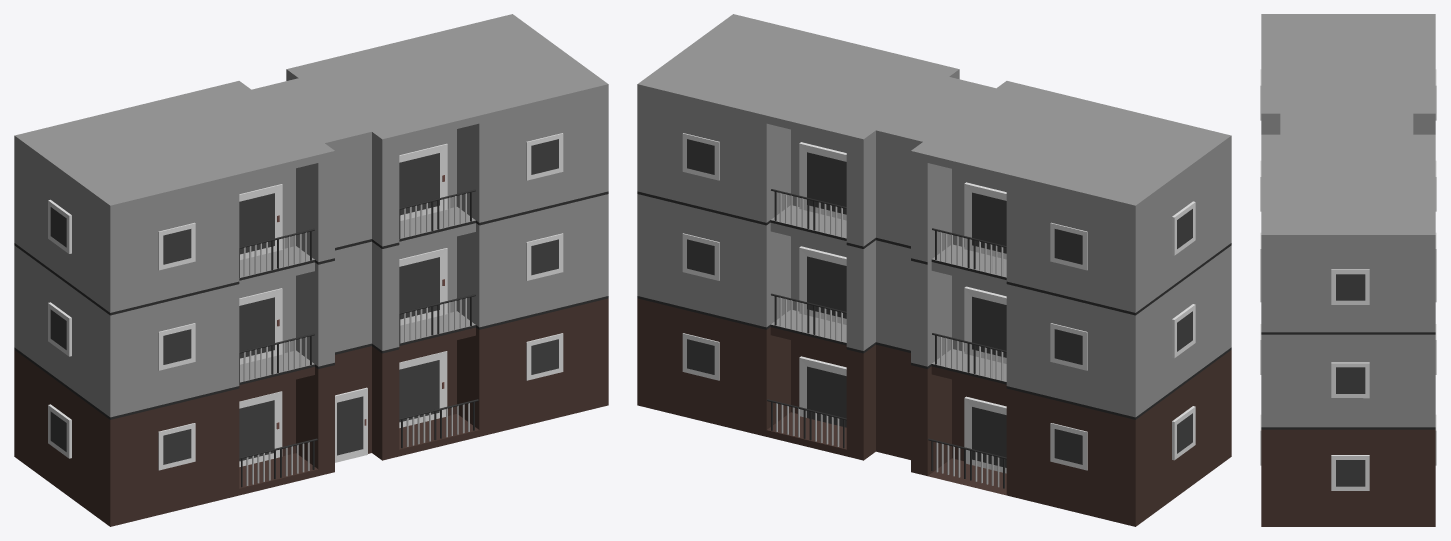
Rendered from PredioFino.fbx.
3 views of the same model, side by side, from view 1: azimuth 30°, elevation 25°; view 2: azimuth 150°, elevation 25°; view 3: azimuth 270°, elevation 25° (orthographic). The views are drawn at different scales.
Visible parts, largest first — view 1: Cube.061, Cube.002, Cube.009, Cube.003, Cube.001, Cube.004, Cube.010, Cube, Cube.014, Cube.018, Cube.015, Cube.016 (+5 smaller); view 2: Cube.061, Cube.007, Cube.006, Cube.008, Cube.012, Cube.005, Cube.011, Cube.025, Cube.026, Cube.027, Cube.028, Cube.029 (+4 smaller); view 3: Cube.061, Cube.023, Cube.022, Cube.024.
Part boxes in pixels (x1,y1,x2,y2): Cube.061: (14, 14, 608, 526); Cube.002: (399, 248, 447, 325); Cube.009: (399, 351, 447, 427); Cube.003: (399, 143, 447, 220); Cube.001: (239, 288, 282, 364); Cube.004: (239, 184, 282, 259); Cube.010: (239, 391, 282, 466); Cube: (335, 387, 367, 462); Cube.014: (526, 233, 563, 280); Cube.018: (158, 222, 195, 270); Cube.015: (526, 333, 563, 380); Cube.016: (158, 423, 195, 470); Cube.061: (637, 14, 1231, 526); Cube.007: (799, 246, 846, 324); Cube.006: (799, 142, 846, 220); Cube.008: (964, 286, 1006, 363); Cube.012: (799, 356, 846, 427); Cube.005: (964, 182, 1006, 259); Cube.011: (964, 396, 1006, 473); Cube.025: (1050, 222, 1087, 270); Cube.026: (1050, 323, 1087, 370); Cube.027: (1050, 423, 1087, 470); Cube.028: (682, 333, 719, 380); Cube.029: (682, 233, 719, 280); Cube.061: (1261, 14, 1435, 526); Cube.023: (1331, 362, 1369, 398); Cube.022: (1331, 455, 1369, 490); Cube.024: (1331, 269, 1369, 304).
Size of the model in its own units: 85.42 by 52.37 by 28.57.
